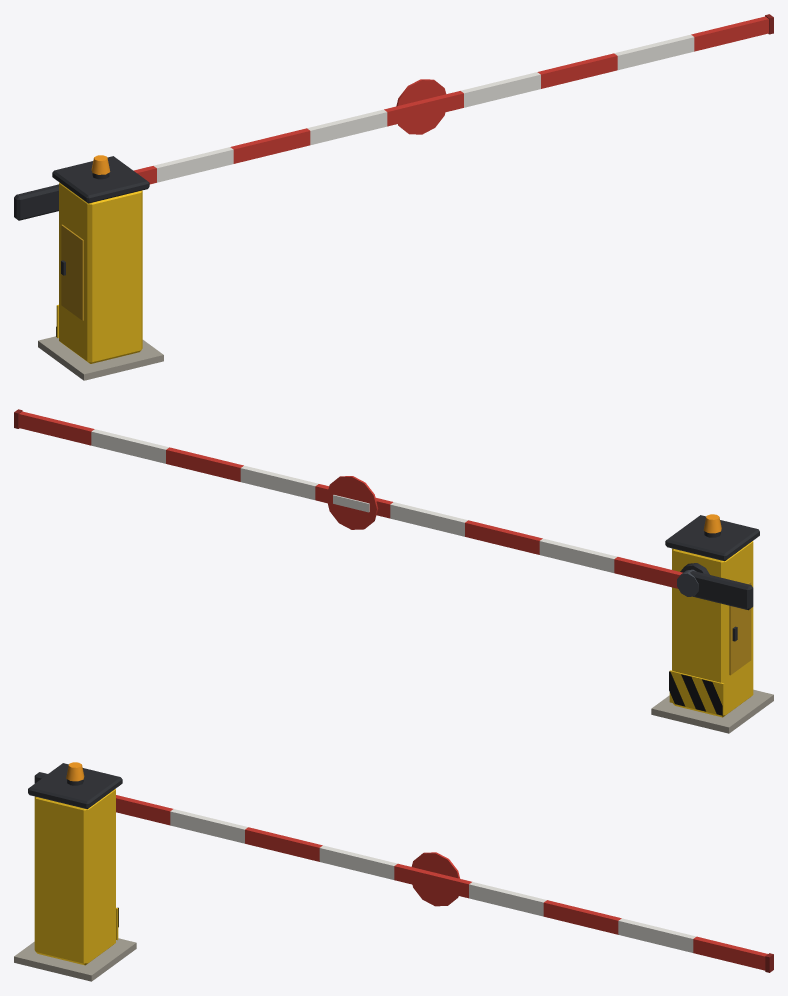
The model's file is prop_boom_gate.glb.
3 renders of one model, top to bottom at view 1: azimuth 30°, elevation 25°; view 2: azimuth 150°, elevation 25°; view 3: azimuth 330°, elevation 25°, orthographic. The views are drawn at different scales.
Visible parts, largest first — view 1: prop_boom_gate__mesh, prop_boom_gate__arm; view 2: prop_boom_gate__mesh, prop_boom_gate__arm; view 3: prop_boom_gate__mesh, prop_boom_gate__arm.
Boxes of the visible parts, x1,y1,x2,y2 form: prop_boom_gate__mesh: (38, 155, 163, 380); prop_boom_gate__arm: (14, 14, 773, 220); prop_boom_gate__mesh: (651, 514, 773, 733); prop_boom_gate__arm: (14, 409, 753, 610); prop_boom_gate__mesh: (14, 762, 136, 981); prop_boom_gate__arm: (34, 772, 773, 972).
Size of the model in its own units: 4.92 by 1.22 by 0.557.
1 material, 1 textured.
